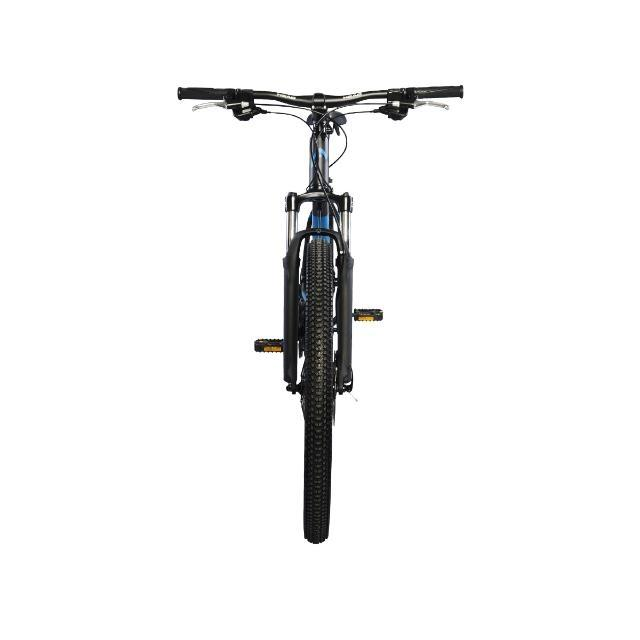obstacle: (170, 73, 480, 560)
